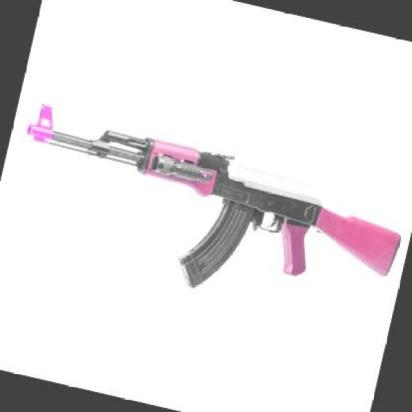Gun: (4, 90, 412, 324)
